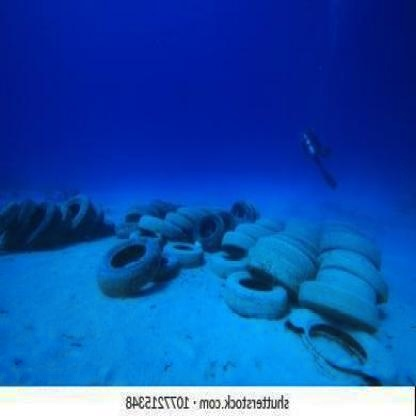tire: (301, 223, 391, 321), (1, 193, 110, 247), (245, 217, 320, 290), (222, 268, 290, 320), (100, 236, 166, 288), (140, 205, 228, 244), (221, 213, 286, 248), (205, 245, 246, 278), (168, 239, 210, 266)
